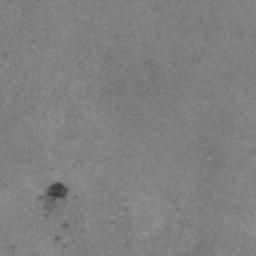Iron sheet ash: (46, 182, 72, 200)
